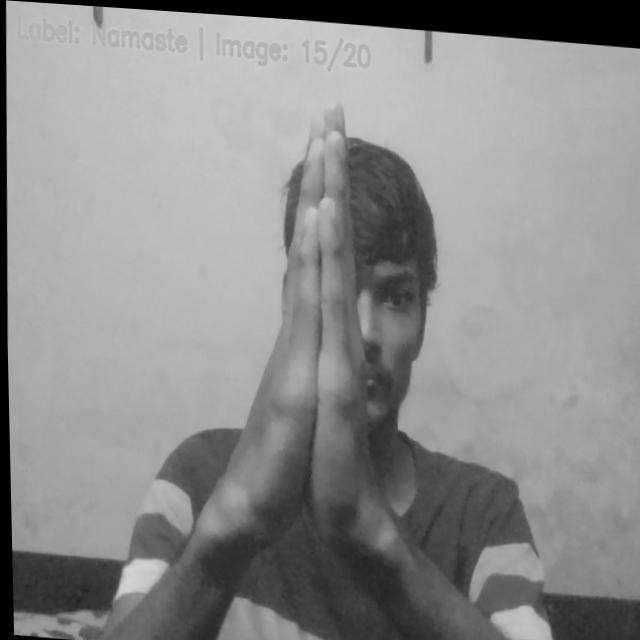Namaste: (216, 90, 394, 552)
